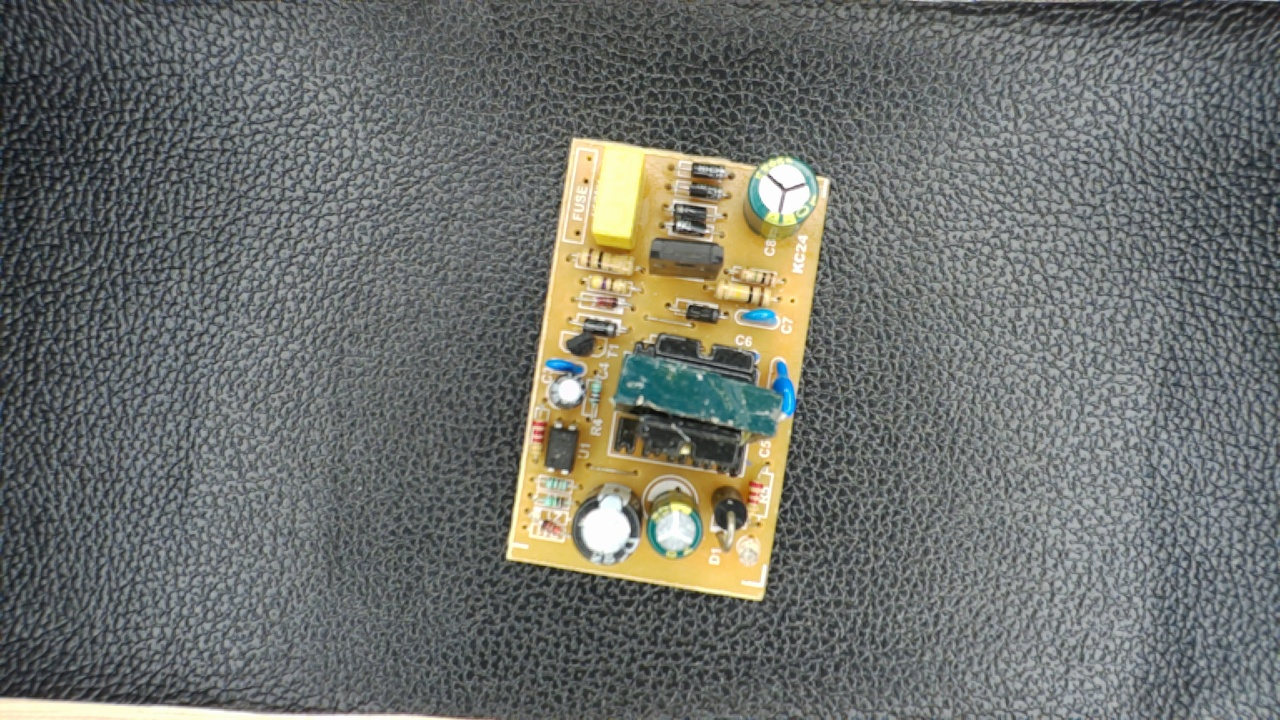hv_capacitor: (743, 158, 824, 237)
mov: (768, 356, 795, 428)
optocoupler: (546, 420, 584, 476)
